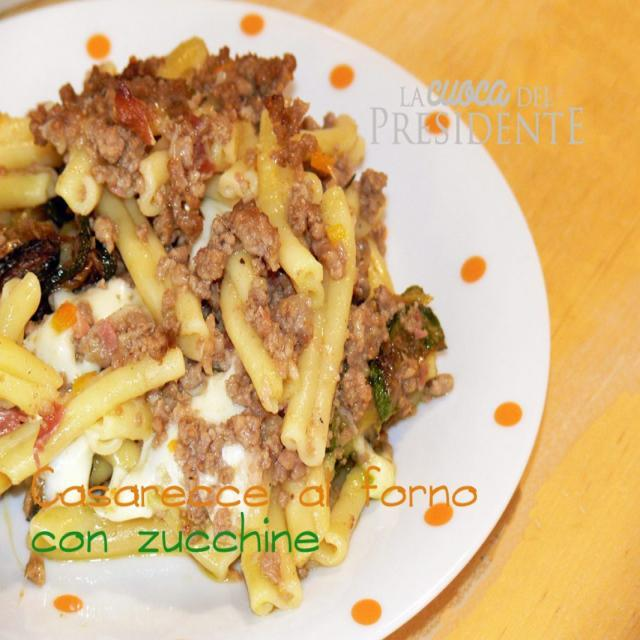Pasta al ragu: (5, 32, 493, 464)
